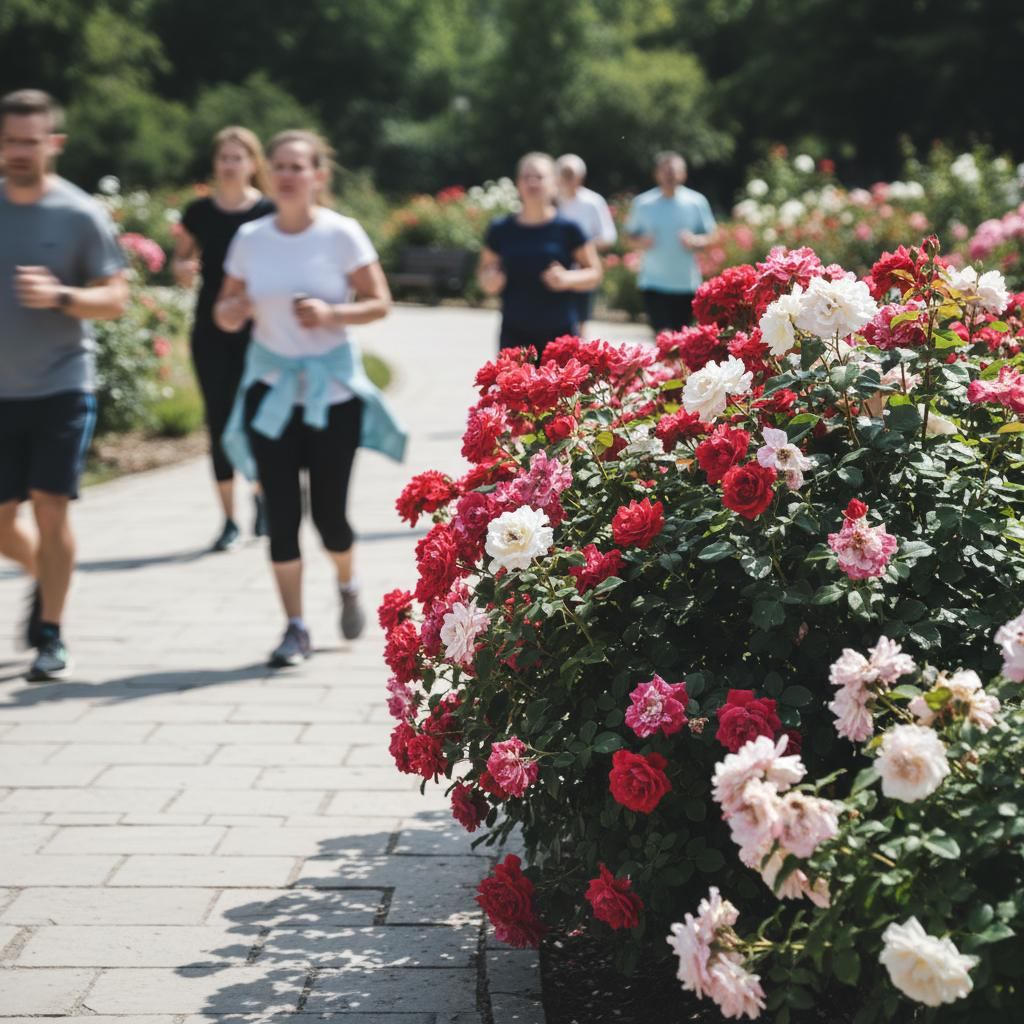rose: (378, 233, 1023, 1019)
